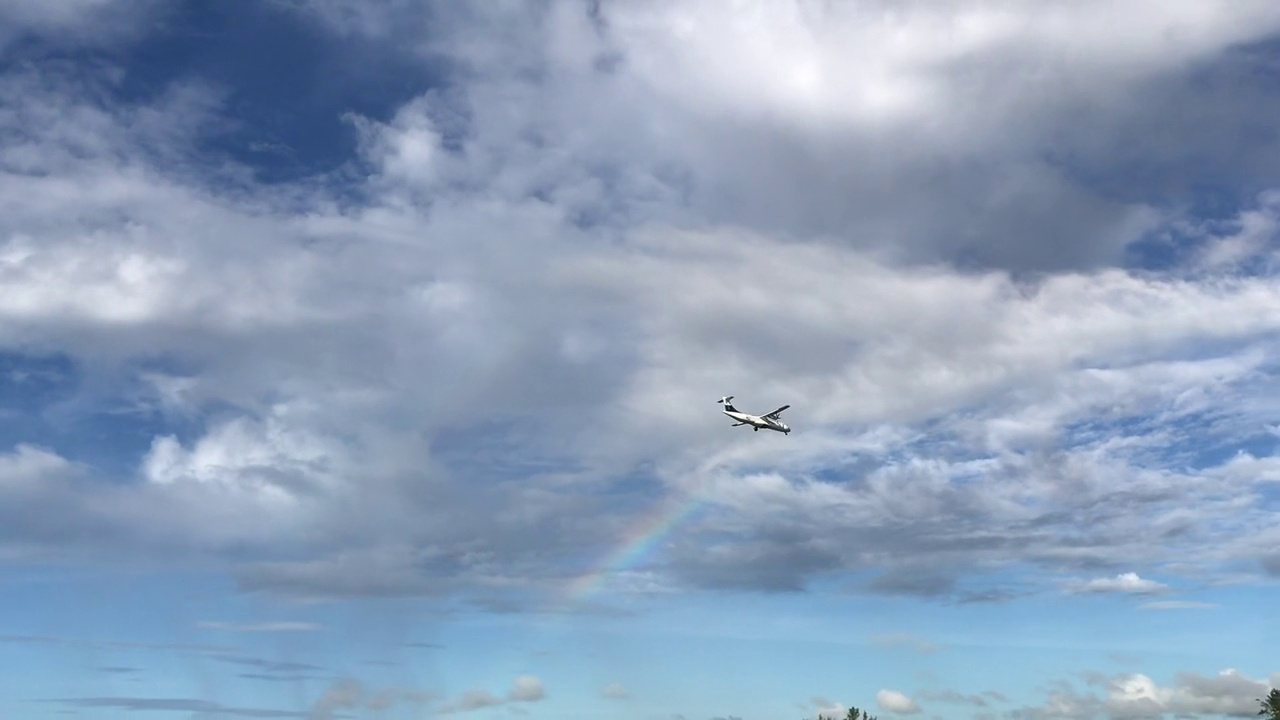plane: (717, 394, 791, 435)
